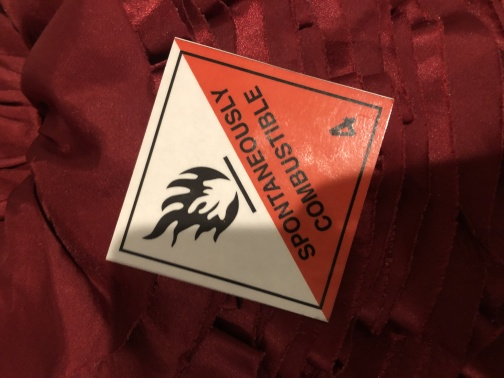SpontaneouslyCombustible: (105, 38, 392, 321)
